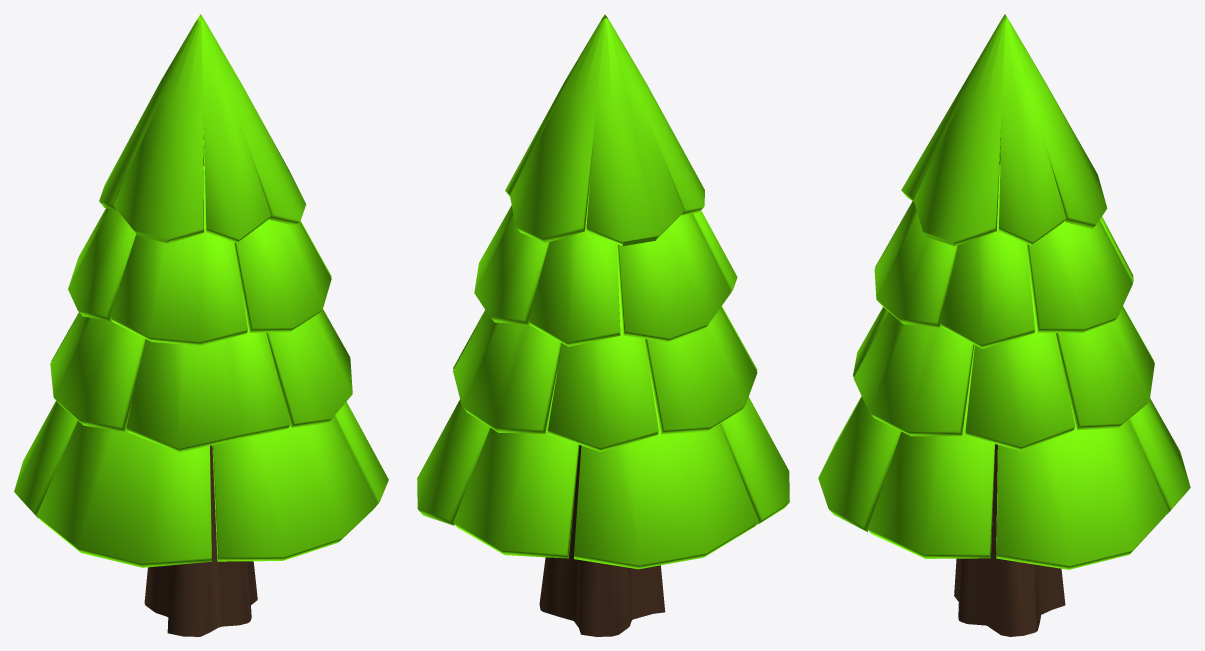
The model's file is ToyObject_229.fbx.
3 renders of one model, left to right at view 1: azimuth 30°, elevation 25°; view 2: azimuth 150°, elevation 25°; view 3: azimuth 270°, elevation 25°, orthographic.
Visible parts, largest first — view 1: Object.086; view 2: Object.086; view 3: Object.086.
Boxes of the visible parts, x1,y1,x2,y2 form: Object.086: (14,14,388,636); Object.086: (417,14,789,636); Object.086: (818,14,1190,636).
Bounding box in the file's own units: 0.1157 × 0.2046 × 0.1162.
